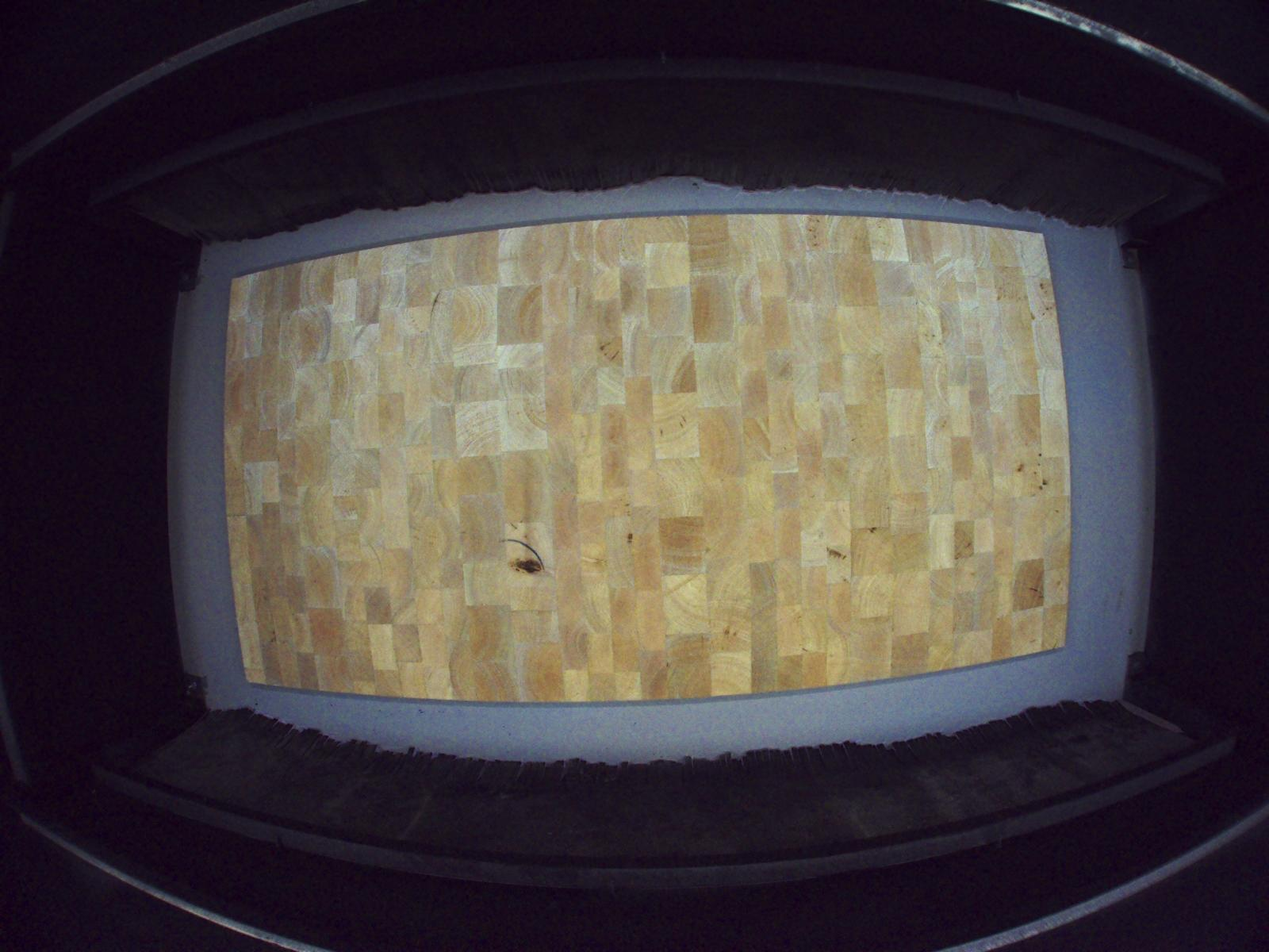nudillo: (506, 553, 544, 577)
